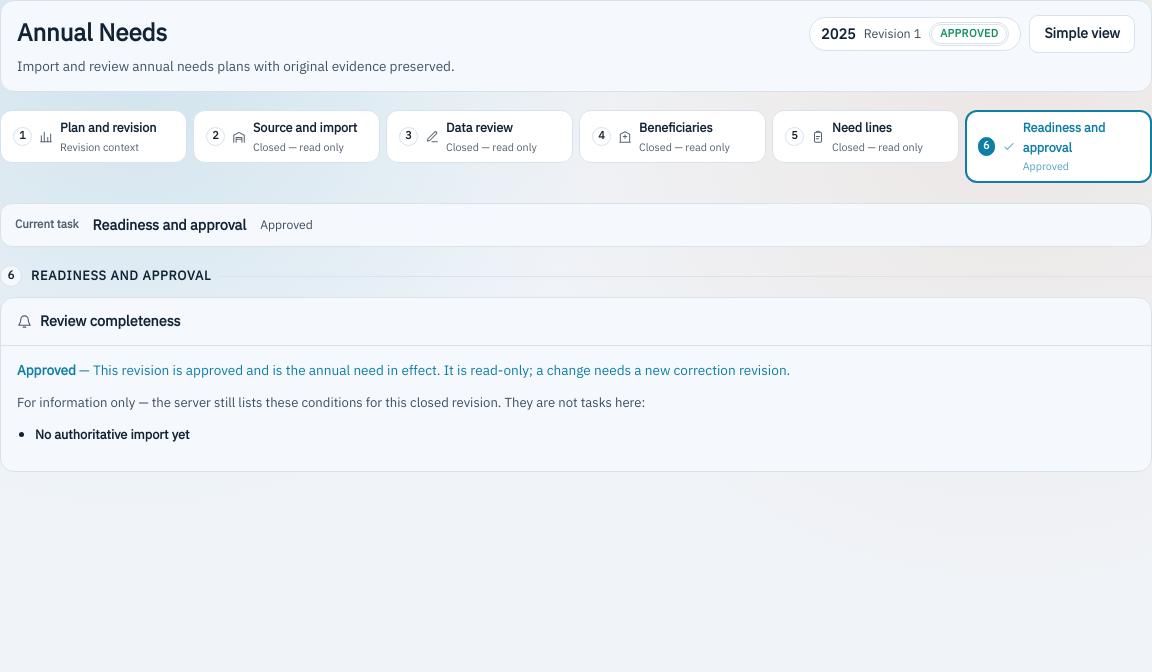
C2 — Advanced Mode correction › a blank reason sends nothing and says a reason is required
Click the button "1 Plan and revision Revision context": point(94, 137) [0, 110, 187, 164]
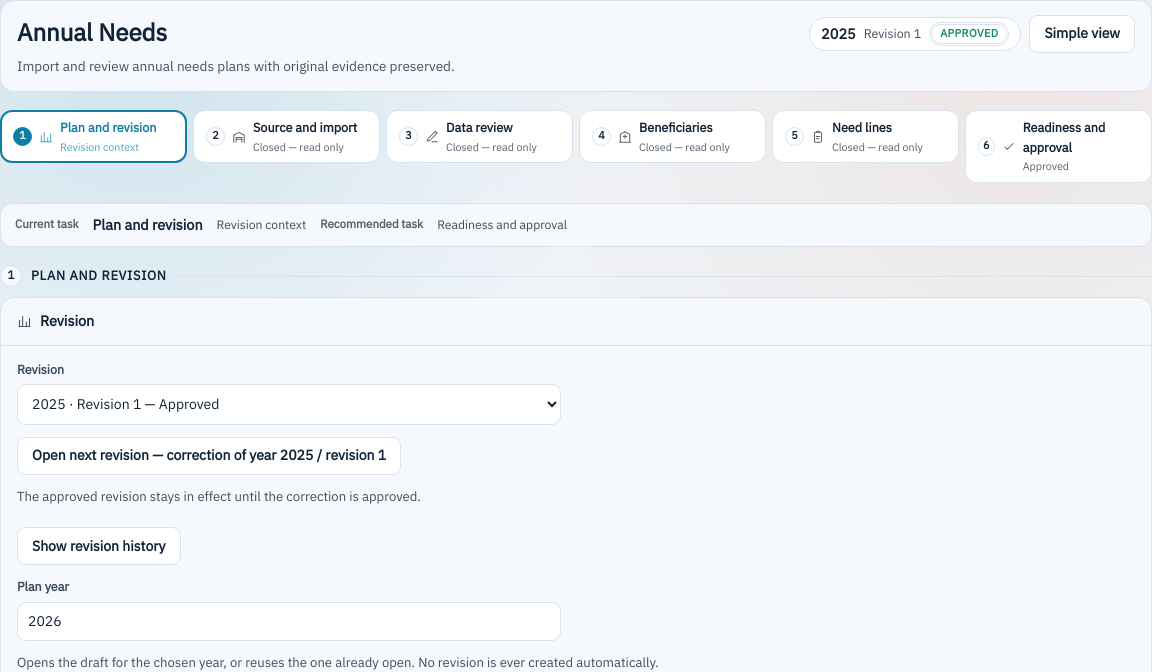
Click the button with test id "cn2b-open-next-revision": point(209, 456) [17, 437, 401, 475]
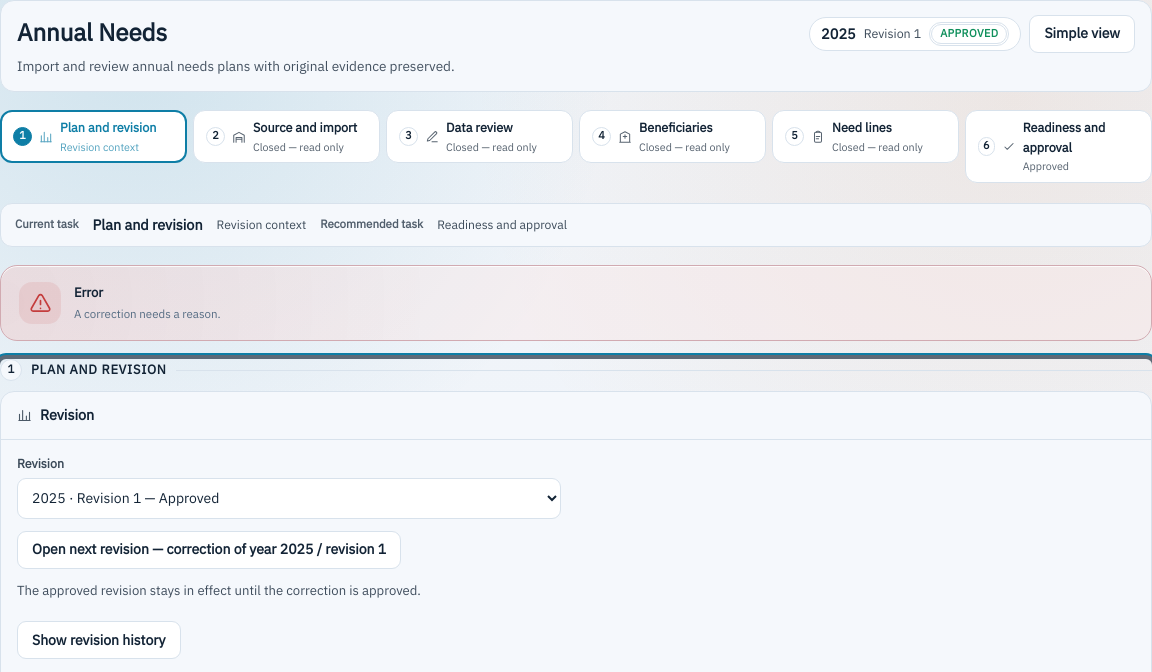
Expected: the text "A correction needs a reason." is shown, [74, 306, 221, 323]
